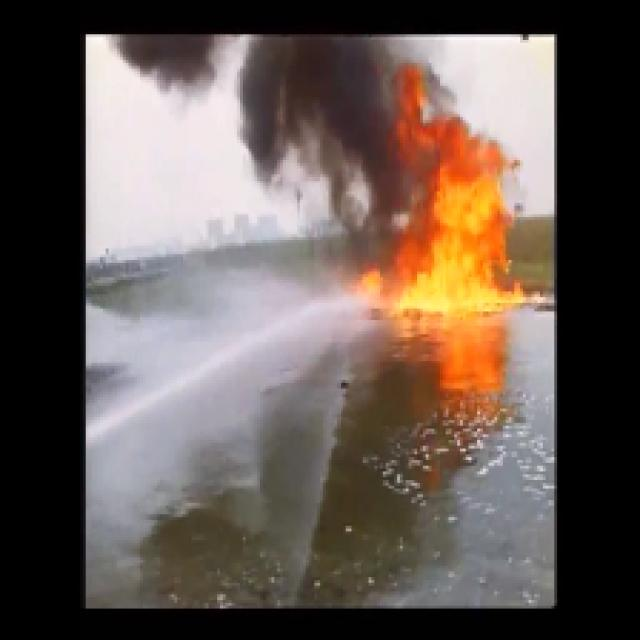fire: (428, 150, 506, 320)
smoke: (252, 40, 392, 172)
